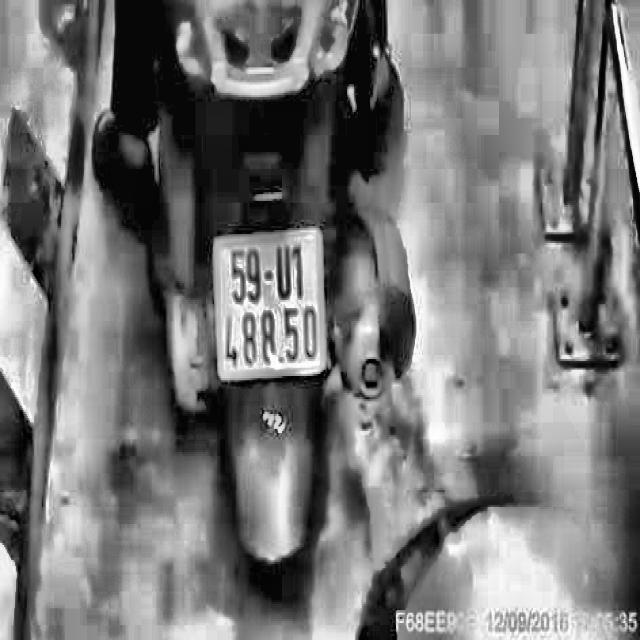plate: (207, 221, 331, 383)
